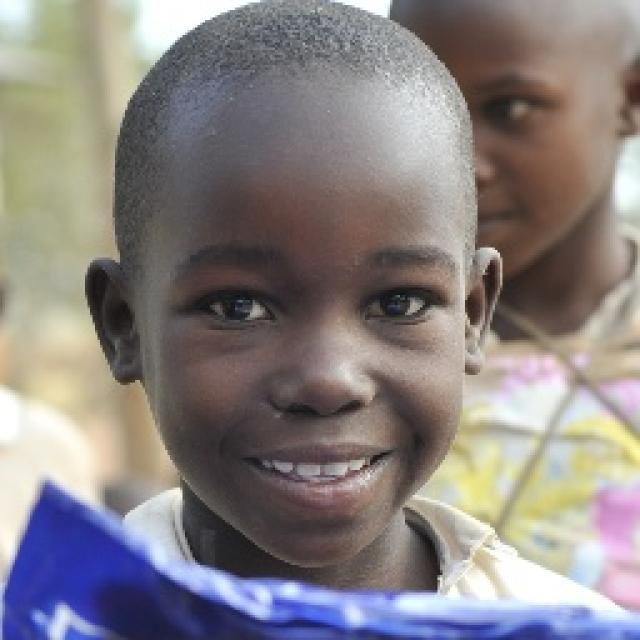earlobe: (107, 338, 142, 386), (462, 322, 488, 377)
eye: (189, 290, 277, 320), (360, 292, 437, 320), (486, 95, 537, 121)
nose: (271, 399, 386, 447)
wholeear: (84, 257, 142, 386), (463, 248, 503, 376)
